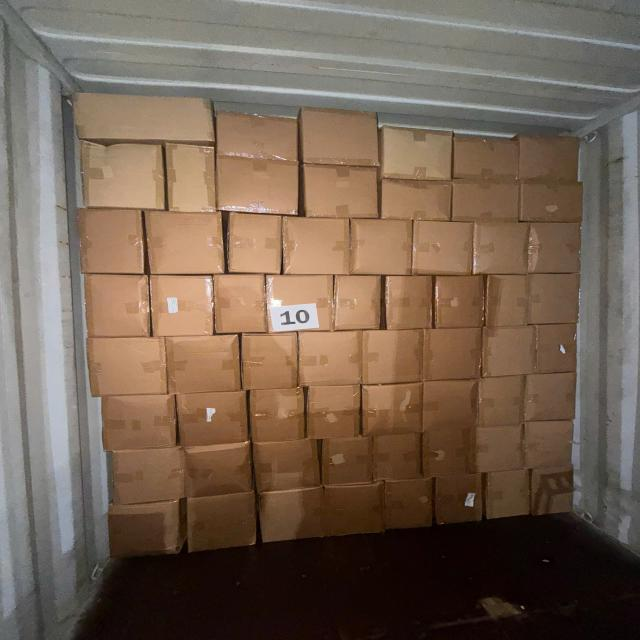Carton: (73, 93, 214, 142), (78, 139, 166, 210), (148, 212, 228, 278), (86, 336, 168, 397), (214, 158, 298, 217), (74, 209, 145, 277), (302, 106, 382, 166), (185, 492, 257, 557), (101, 394, 179, 453), (168, 334, 244, 394), (109, 447, 185, 507), (107, 503, 182, 562), (85, 272, 152, 338), (214, 110, 298, 162), (257, 485, 330, 543), (301, 167, 379, 221), (175, 391, 248, 448), (152, 272, 216, 337), (281, 216, 350, 276), (264, 273, 333, 332), (182, 442, 251, 501), (382, 124, 454, 180), (322, 479, 389, 538), (300, 331, 366, 388), (254, 442, 324, 495), (169, 143, 220, 215), (350, 217, 412, 275), (412, 218, 474, 276), (224, 215, 281, 278), (359, 330, 423, 386), (362, 383, 426, 438), (242, 332, 301, 389), (213, 273, 267, 335), (248, 389, 306, 445), (425, 328, 484, 381), (307, 385, 363, 440), (454, 134, 522, 179), (377, 181, 449, 223), (472, 220, 528, 274), (421, 377, 479, 429), (420, 426, 481, 475), (519, 133, 580, 181), (452, 182, 520, 225), (530, 219, 585, 272), (334, 274, 384, 331), (382, 273, 432, 329), (482, 328, 537, 378), (436, 274, 488, 326), (529, 272, 582, 323), (524, 370, 578, 420), (434, 472, 484, 526), (519, 184, 584, 225), (474, 422, 526, 473), (524, 419, 576, 469), (386, 477, 436, 529), (321, 435, 372, 485), (478, 374, 526, 424), (374, 432, 424, 479), (485, 273, 529, 326), (485, 471, 531, 521), (536, 324, 577, 374), (532, 472, 576, 518)
